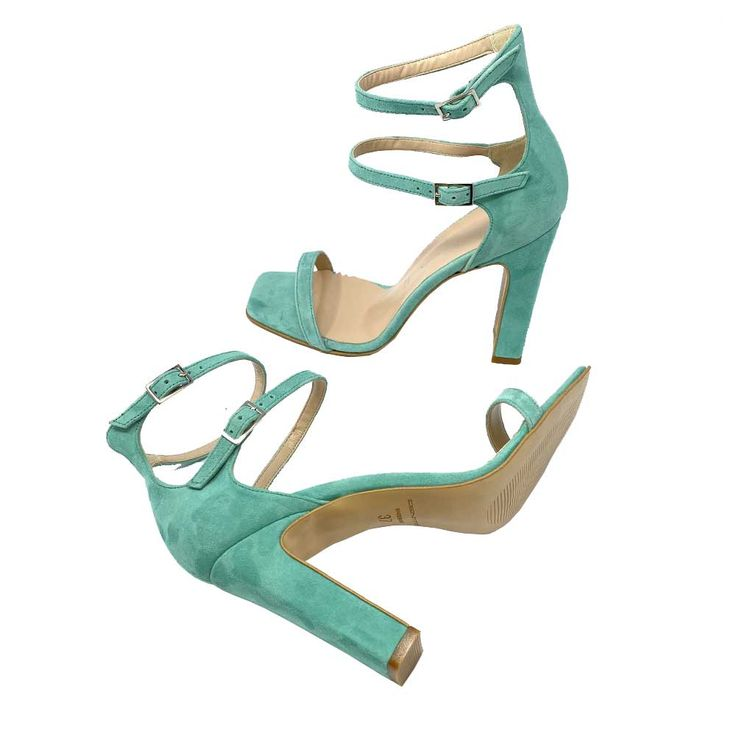gamuza: (103, 26, 590, 682)
